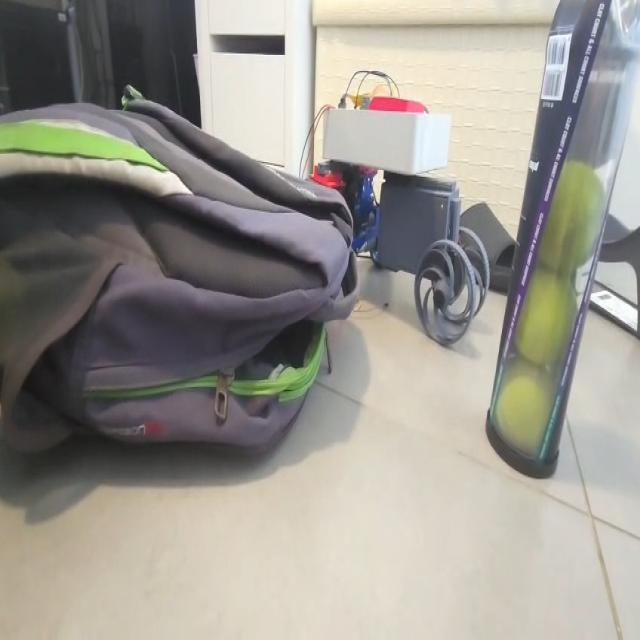Robot: (306, 92, 490, 345)
